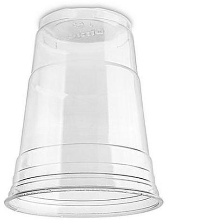glass: (0, 4, 166, 221)
